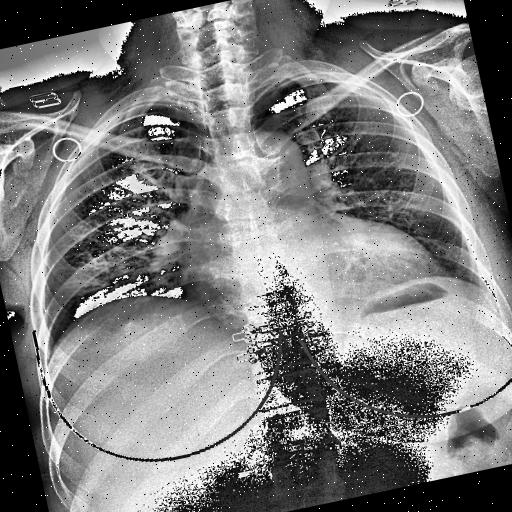0- Aortic enlargement: (233, 122, 309, 194), (232, 123, 308, 194)
13- Pulmonary fibrosis: (56, 270, 106, 300), (57, 273, 110, 300)
3- Cardiomegaly: (186, 202, 454, 339), (180, 209, 443, 339), (184, 208, 448, 336)
